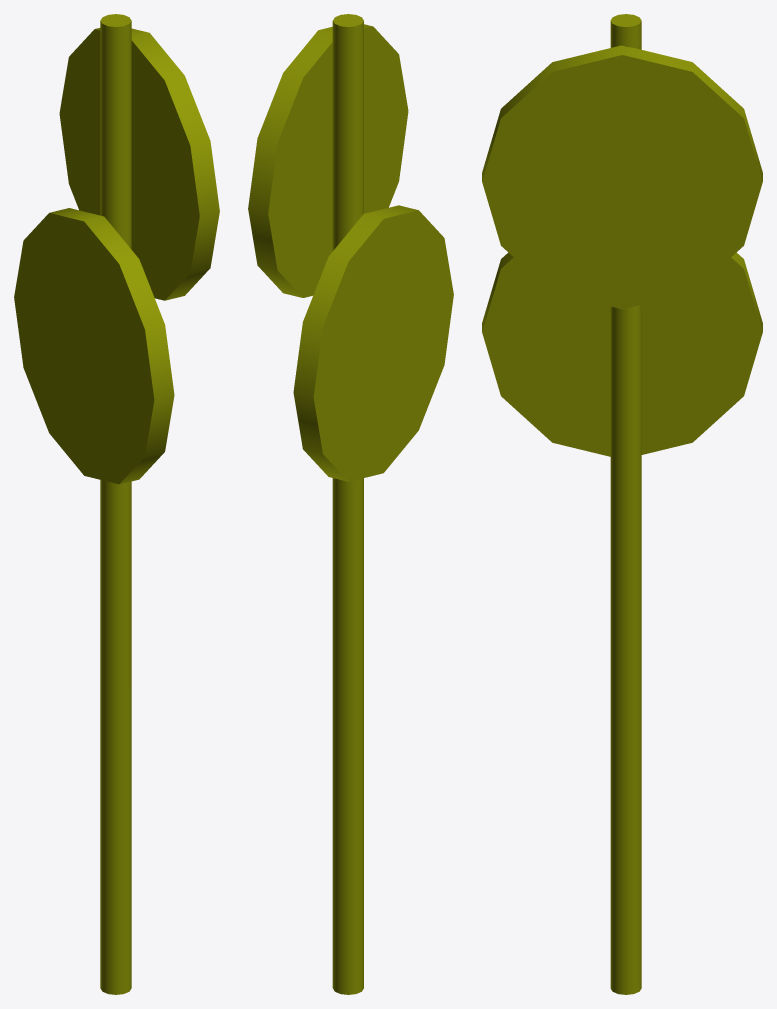
The model's file is SM_Sign_small.fbx.
The picture shows the model from 3 angles, left to right: view 1: azimuth 30°, elevation 25°; view 2: azimuth 150°, elevation 25°; view 3: azimuth 270°, elevation 25°; orthographic projection.
Parts seen in each view (by area): view 1: Sign_small; view 2: Sign_small; view 3: Sign_small.
Boxes of the visible parts, bbox=[...] form: Sign_small: bbox=[14, 14, 219, 994]; Sign_small: bbox=[248, 14, 453, 994]; Sign_small: bbox=[482, 14, 762, 994].
Size of the model in its own units: 13.37 by 189 by 49.62.
